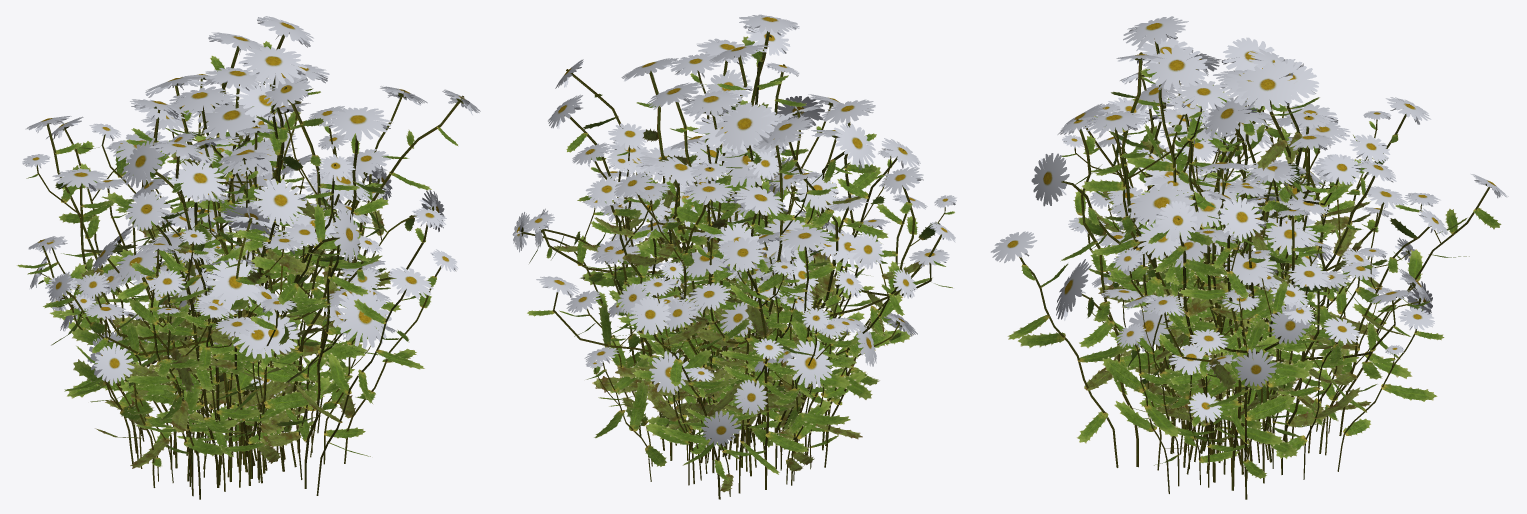
The model's file is daisy.glb.
3 renders of one model, left to right at view 1: azimuth 30°, elevation 25°; view 2: azimuth 150°, elevation 25°; view 3: azimuth 270°, elevation 25°, orthographic. The views are drawn at different scales.
Visible parts, largest first — view 1: daisy_patch_big_2_lod0, daisy_patch_big_1_lod0, daisy_patch_big_3_lod0, daisy_patch_small_1_lod0, daisy_patch_small_3_lod0, daisy_patch_small_2_lod0, daisy_1_lod0, daisy_2_lod0, daisy_3_lod0; view 2: daisy_patch_big_2_lod0, daisy_patch_big_1_lod0, daisy_patch_big_3_lod0, daisy_patch_small_1_lod0, daisy_patch_small_2_lod0, daisy_patch_small_3_lod0, daisy_1_lod0, daisy_2_lod0, daisy_3_lod0; view 3: daisy_patch_big_2_lod0, daisy_patch_big_1_lod0, daisy_patch_big_3_lod0, daisy_patch_small_2_lod0, daisy_patch_small_3_lod0, daisy_patch_small_1_lod0, daisy_2_lod0, daisy_1_lod0, daisy_3_lod0.
Part boxes in pixels (x1,y1,x2,y2): daisy_patch_big_2_lod0: [46, 69, 391, 496]; daisy_patch_big_1_lod0: [22, 16, 480, 495]; daisy_patch_big_3_lod0: [16, 67, 446, 499]; daisy_patch_small_1_lod0: [52, 46, 334, 481]; daisy_patch_small_3_lod0: [76, 32, 392, 487]; daisy_patch_small_2_lod0: [98, 75, 399, 479]; daisy_1_lod0: [155, 101, 300, 466]; daisy_2_lod0: [132, 93, 382, 464]; daisy_3_lod0: [144, 115, 345, 441]; daisy_patch_big_2_lod0: [527, 38, 955, 499]; daisy_patch_big_1_lod0: [512, 58, 952, 496]; daisy_patch_big_3_lod0: [548, 90, 956, 493]; daisy_patch_small_1_lod0: [584, 14, 856, 473]; daisy_patch_small_2_lod0: [608, 27, 875, 472]; daisy_patch_small_3_lod0: [535, 82, 920, 480]; daisy_1_lod0: [601, 115, 776, 459]; daisy_2_lod0: [654, 104, 814, 455]; daisy_3_lod0: [609, 155, 807, 456]; daisy_patch_big_2_lod0: [1031, 37, 1508, 487]; daisy_patch_big_1_lod0: [990, 38, 1432, 499]; daisy_patch_big_3_lod0: [1056, 72, 1431, 490]; daisy_patch_small_2_lod0: [1092, 52, 1370, 484]; daisy_patch_small_3_lod0: [1098, 59, 1390, 483]; daisy_patch_small_1_lod0: [1057, 16, 1407, 480]; daisy_2_lod0: [1107, 110, 1338, 453]; daisy_1_lod0: [1152, 112, 1331, 453]; daisy_3_lod0: [1172, 160, 1319, 456].
Size of what is drawn, in the model's own units: 0.719 by 0.7188 by 0.7919.
1 material, 1 textured.
